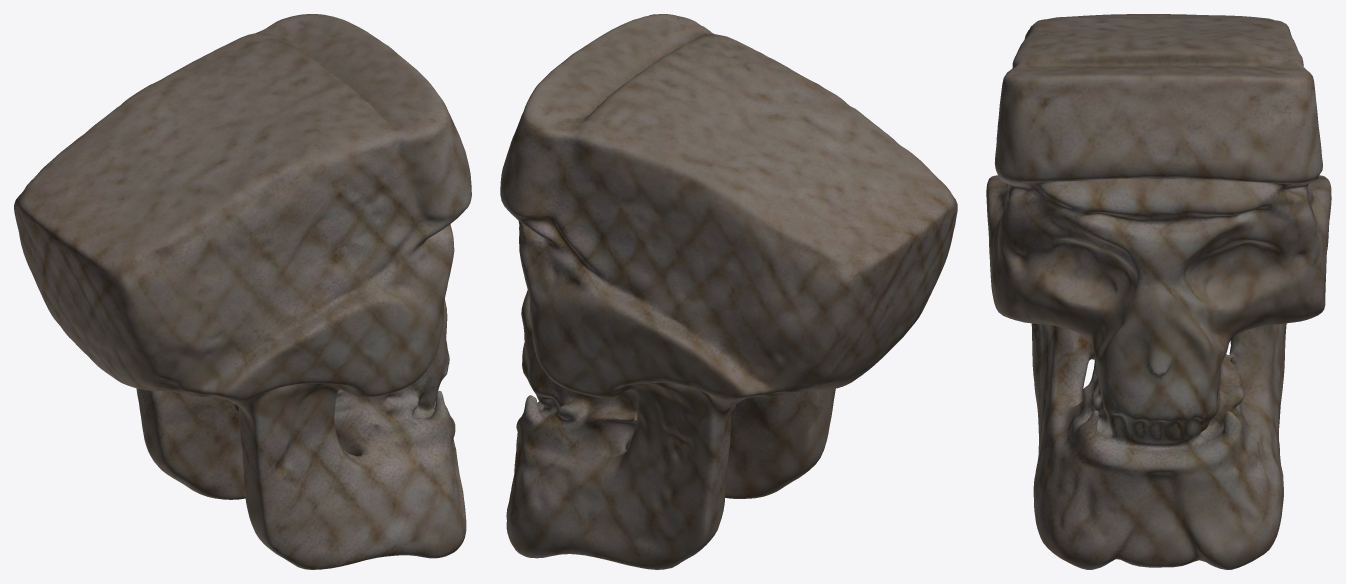
Rendered from Artifact4 Model.fbx.
3 renders of one model, left to right at view 1: azimuth 30°, elevation 25°; view 2: azimuth 150°, elevation 25°; view 3: azimuth 270°, elevation 25°, orthographic.
Parts seen in each view (by area): view 1: high_poly; view 2: high_poly; view 3: high_poly.
Part boxes in pixels (x1,y1,x2,y2): high_poly: (14,14,471,569); high_poly: (500,14,957,569); high_poly: (986,14,1331,569).
Bounding box in the file's own units: 84.89 × 100 × 65.17.
